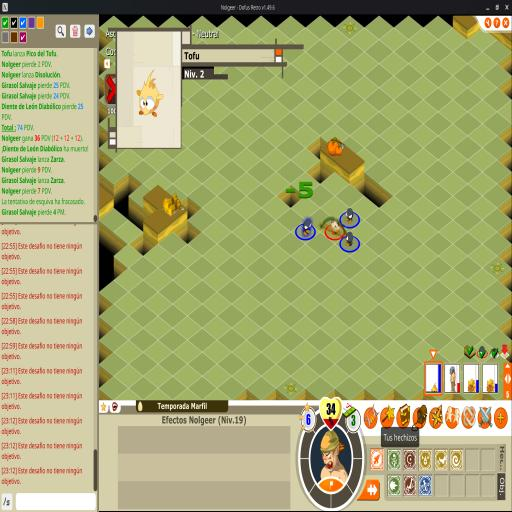Enemigos: (302, 218, 313, 236), (344, 208, 354, 225), (344, 231, 354, 247)
Personaje: (326, 217, 343, 236)
